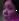without_mask: (1, 1, 19, 21)
